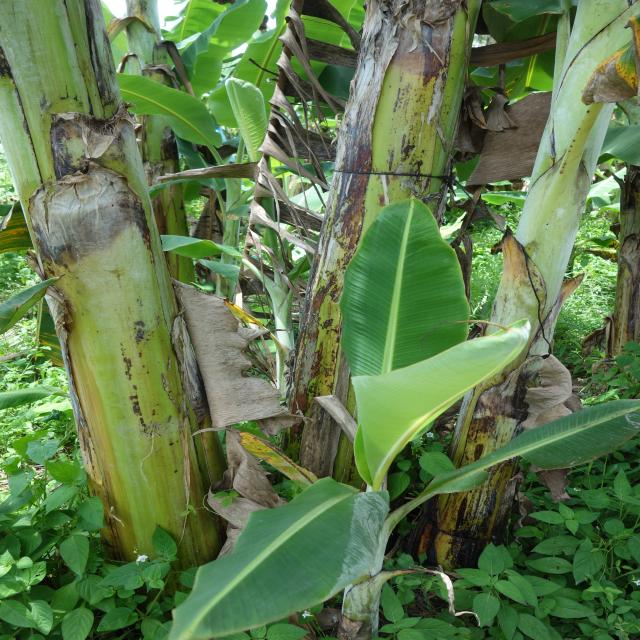Banana-plant: (426, 0, 640, 584), (0, 1, 216, 560), (272, 0, 468, 557)
